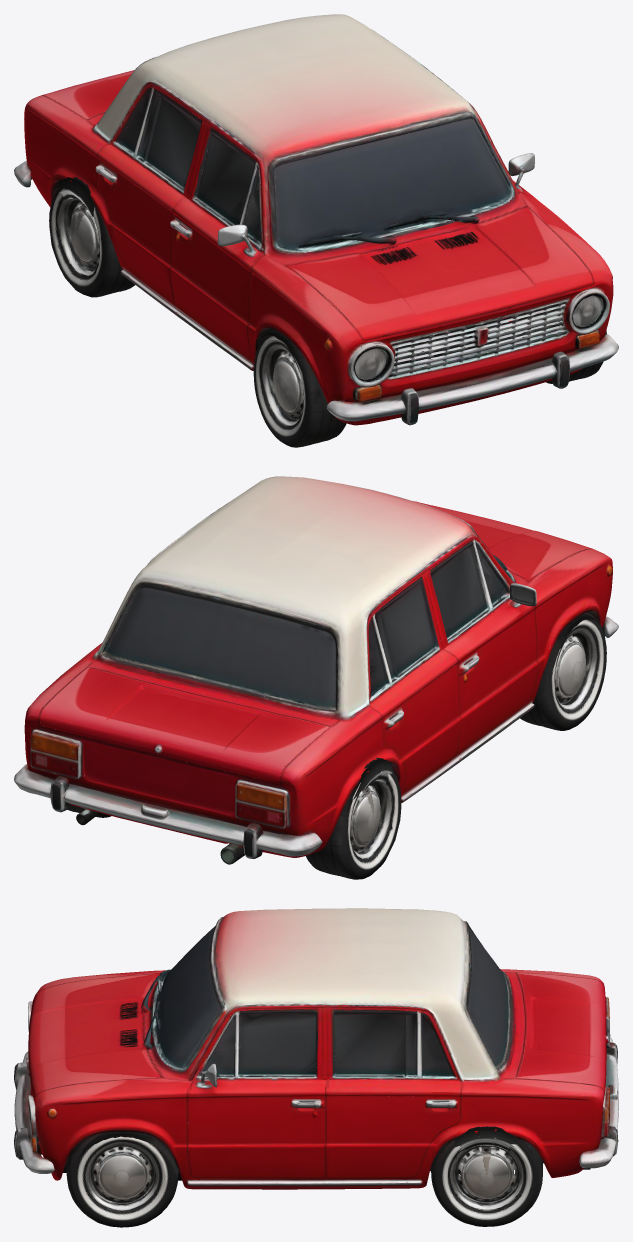
Rendered from tofas_murat_124.glb.
3 views of the same model, one above another, from view 1: azimuth 30°, elevation 25°; view 2: azimuth 150°, elevation 25°; view 3: azimuth 270°, elevation 25° (orthographic). The views are drawn at different scales.
Visible parts, largest first — view 1: tripo_part_1, tripo_part_2, tripo_part_12, tripo_part_14, tripo_part_5, tripo_part_0, tripo_part_8, tripo_part_4, tripo_part_15, tripo_part_7, tripo_part_21, tripo_part_6 (+7 smaller); view 2: tripo_part_1, tripo_part_2, tripo_part_11, tripo_part_16, tripo_part_4, tripo_part_5, tripo_part_15, tripo_part_21, tripo_part_17, tripo_part_12, tripo_part_26, tripo_part_27 (+5 smaller); view 3: tripo_part_1, tripo_part_10, tripo_part_12, tripo_part_19, tripo_part_6, tripo_part_11, tripo_part_3, tripo_part_9, tripo_part_13, tripo_part_22, tripo_part_14, tripo_part_16 (+5 smaller).
Part boxes in pixels (x1=…): tripo_part_1: x1=88, y1=14, x2=528, y2=266; tripo_part_2: x1=24, y1=95, x2=369, y2=423; tripo_part_12: x1=285, y1=207, x2=596, y2=342; tripo_part_14: x1=274, y1=119, x2=510, y2=250; tripo_part_5: x1=253, y1=328, x2=346, y2=447; tripo_part_0: x1=347, y1=287, x2=593, y2=425; tripo_part_8: x1=326, y1=334, x2=618, y2=425; tripo_part_4: x1=49, y1=177, x2=134, y2=297; tripo_part_15: x1=111, y1=85, x2=202, y2=196; tripo_part_7: x1=391, y1=300, x2=566, y2=375; tripo_part_21: x1=192, y1=126, x2=263, y2=252; tripo_part_6: x1=518, y1=191, x2=613, y2=340; tripo_part_1: x1=88, y1=476, x2=529, y2=725; tripo_part_2: x1=39, y1=549, x2=612, y2=857; tripo_part_11: x1=38, y1=667, x2=330, y2=782; tripo_part_16: x1=106, y1=588, x2=335, y2=709; tripo_part_4: x1=306, y1=757, x2=401, y2=879; tripo_part_5: x1=520, y1=612, x2=606, y2=730; tripo_part_15: x1=367, y1=576, x2=443, y2=704; tripo_part_21: x1=430, y1=539, x2=510, y2=643; tripo_part_17: x1=54, y1=774, x2=322, y2=856; tripo_part_12: x1=413, y1=501, x2=593, y2=581; tripo_part_26: x1=235, y1=779, x2=290, y2=828; tripo_part_27: x1=30, y1=729, x2=83, y2=779; tripo_part_1: x1=141, y1=908, x2=522, y2=1082; tripo_part_10: x1=183, y1=1063, x2=461, y2=1189; tripo_part_12: x1=28, y1=972, x2=160, y2=1098; tripo_part_19: x1=421, y1=1078, x2=604, y2=1181; tripo_part_6: x1=33, y1=1077, x2=195, y2=1184; tripo_part_11: x1=515, y1=972, x2=608, y2=1092; tripo_part_3: x1=430, y1=1126, x2=542, y2=1226; tripo_part_9: x1=66, y1=1131, x2=179, y2=1227; tripo_part_13: x1=334, y1=1009, x2=458, y2=1079; tripo_part_22: x1=196, y1=1008, x2=317, y2=1080; tripo_part_14: x1=155, y1=926, x2=220, y2=1067; tripo_part_16: x1=468, y1=928, x2=510, y2=1067.
Bounding box in the file's own units: 0.5382 × 0.4045 × 0.9995.
Materials: 1 (1 with a texture image).
